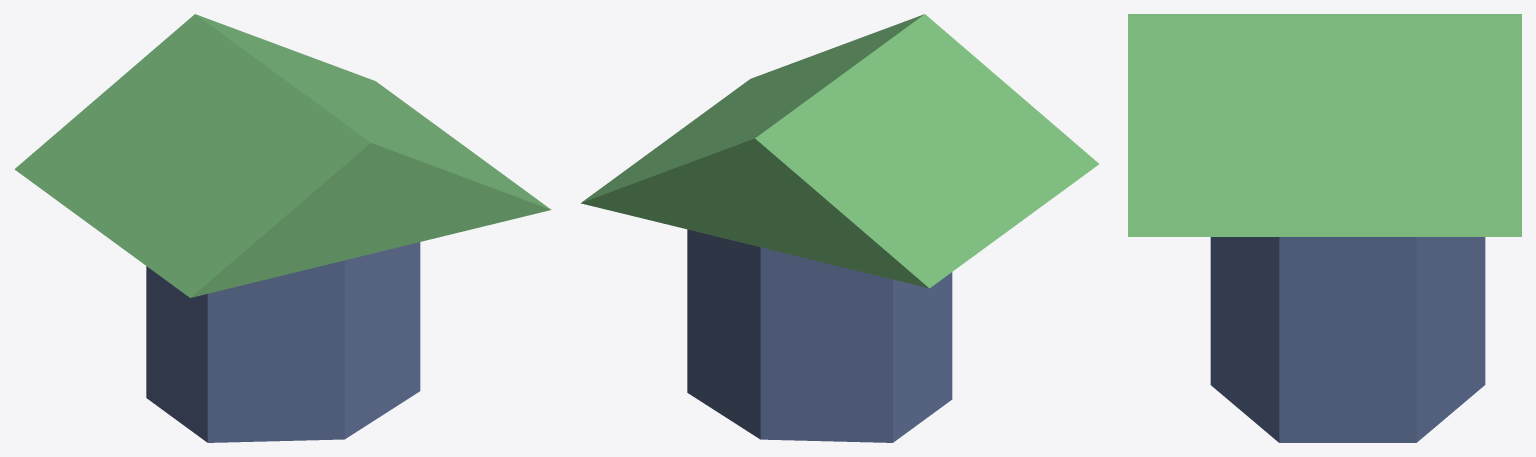
Rendered from Funky Rottis.glb.
The picture shows the model from 3 angles, left to right: view 1: azimuth 30°, elevation 25°; view 2: azimuth 150°, elevation 25°; view 3: azimuth 270°, elevation 25°; orthographic projection. The views are drawn at different scales.
Parts seen in each view (by area): view 1: Mesh_Mesh_head_geo.001_lambert2SG.001; view 2: Mesh_Mesh_head_geo.001_lambert2SG.001; view 3: Mesh_Mesh_head_geo.001_lambert2SG.001.
Boxes of the visible parts, left/top/right/bottom form: Mesh_Mesh_head_geo.001_lambert2SG.001: left=14, top=14, right=551, bottom=442; Mesh_Mesh_head_geo.001_lambert2SG.001: left=581, top=14, right=1098, bottom=442; Mesh_Mesh_head_geo.001_lambert2SG.001: left=1128, top=14, right=1521, bottom=442.
Size of the model in its own units: 51 by 44 by 43.
